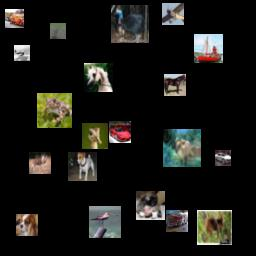airplane: (162, 3, 184, 25), (14, 45, 30, 61)
automobile: (109, 121, 131, 143), (215, 150, 231, 166)
bird: (111, 5, 149, 43), (89, 206, 121, 238), (82, 123, 108, 149)
deer: (163, 129, 201, 167), (197, 210, 232, 245), (29, 152, 51, 174), (50, 23, 66, 39)
dog: (136, 191, 165, 220), (68, 152, 97, 181), (16, 214, 38, 236)
frog: (37, 93, 72, 128)
ship: (194, 34, 223, 63)
truck: (166, 210, 188, 232), (5, 9, 24, 28)
